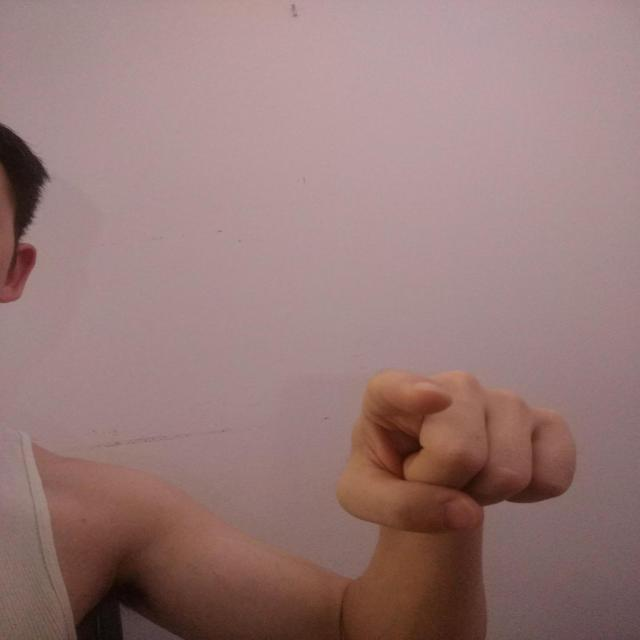Z: (326, 365, 582, 541)
